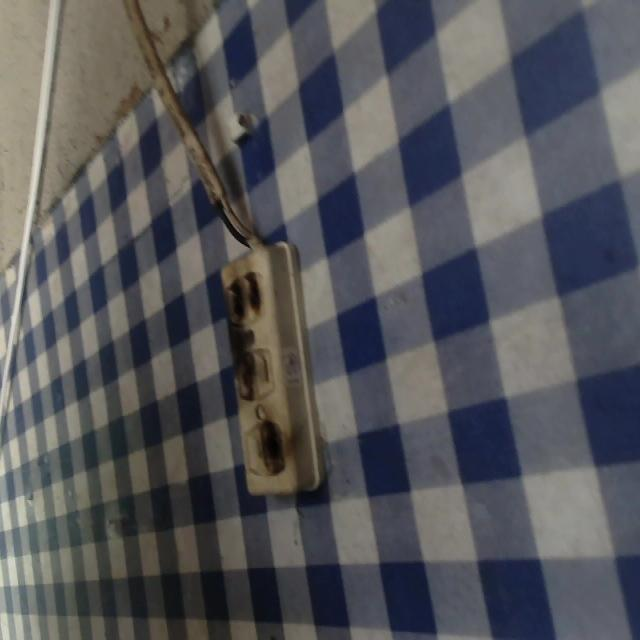-: (222, 265, 266, 324), (258, 417, 286, 475), (232, 347, 258, 402)
